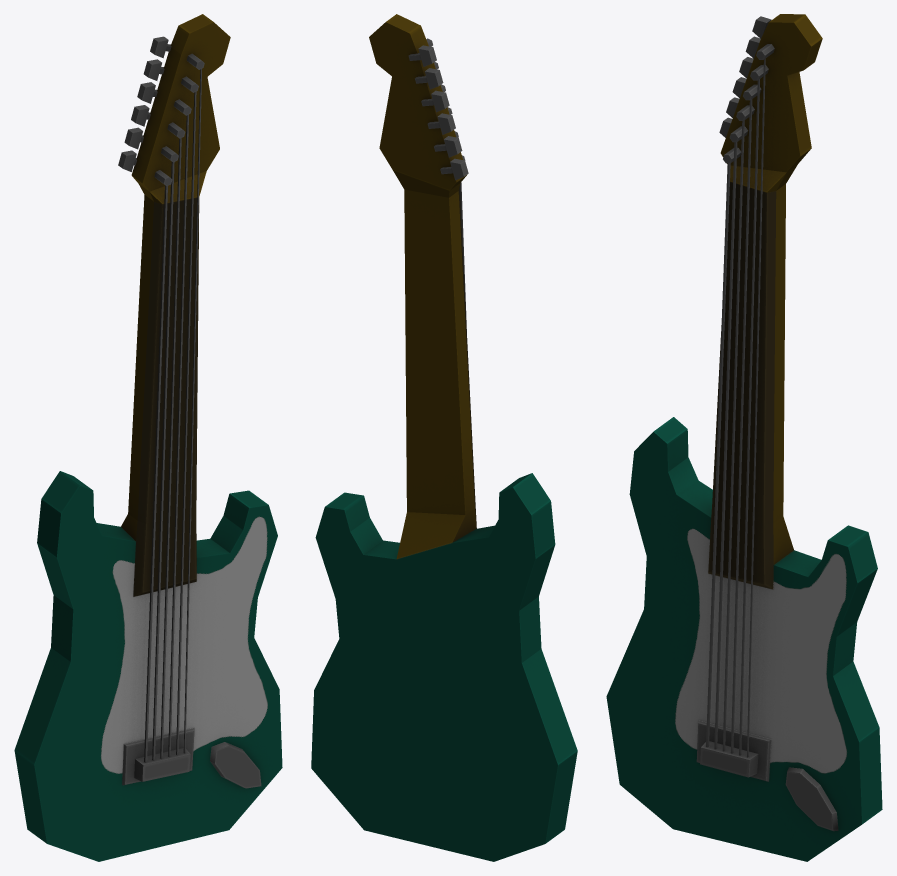
File: ElectricGuitar.glb
3 views of the same model, side by side, from view 1: azimuth 30°, elevation 25°; view 2: azimuth 150°, elevation 25°; view 3: azimuth 330°, elevation 25° (orthographic). The views are drawn at different scales.
Parts seen in each view (by area): view 1: node-0; view 2: node-0; view 3: node-0.
Boxes of the visible parts, left/top/right/bottom form: node-0: left=14, top=14, right=282, bottom=861; node-0: left=311, top=14, right=577, bottom=861; node-0: left=606, top=14, right=882, bottom=861.
Bounding box in the file's own units: 7.24 × 22.6 × 1.44.
1 material, 1 textured.
